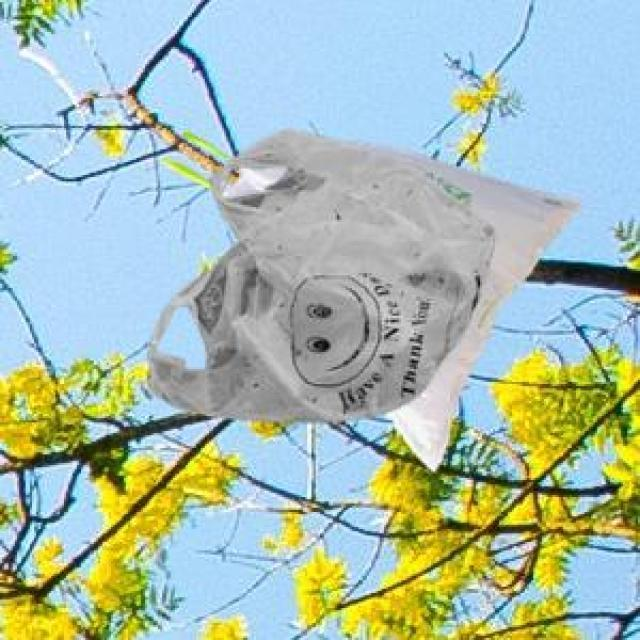waste: (195, 134, 495, 418)
